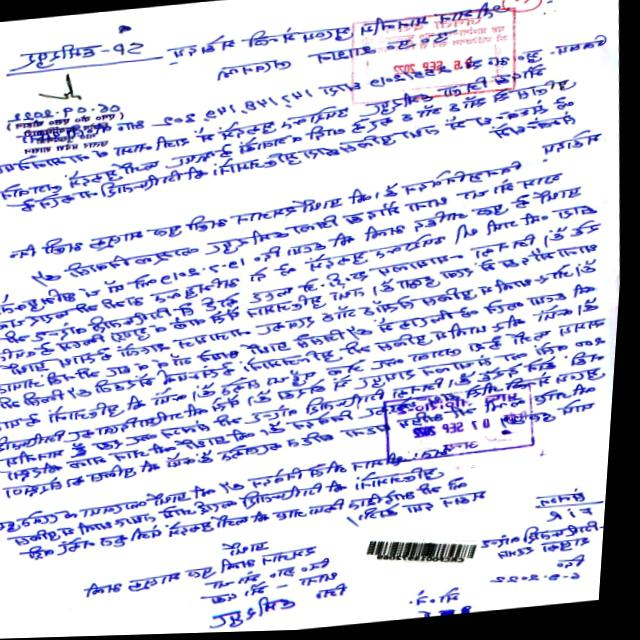barcode: (364, 527, 482, 573)
jantadarsan: (343, 5, 529, 108)
signnamestamp: (0, 68, 144, 157)
